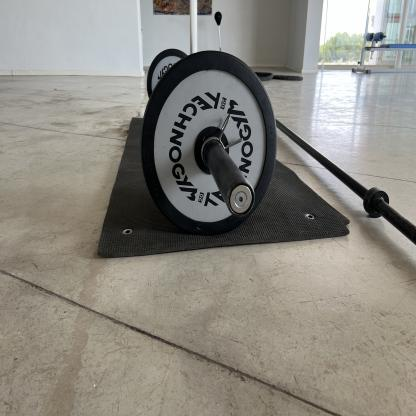barbell: (142, 51, 279, 238)
